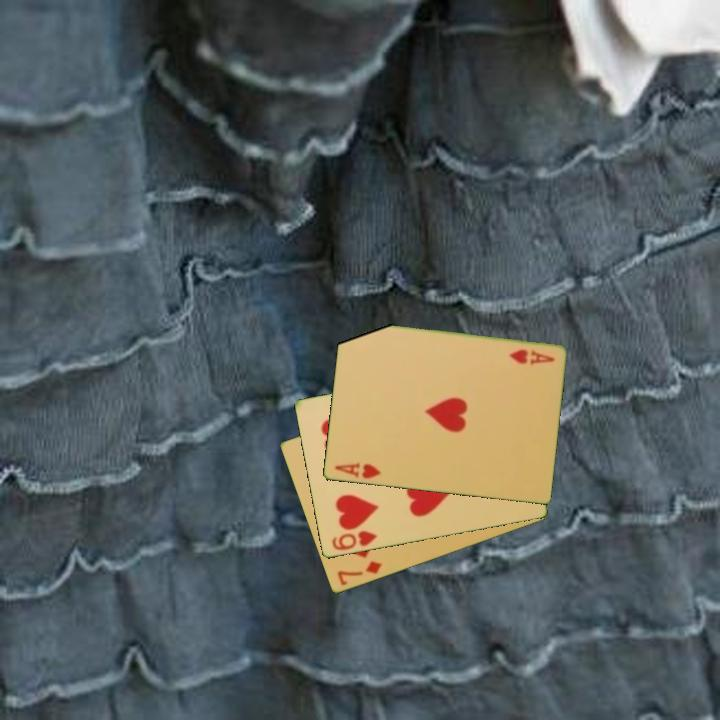6h: (328, 527, 380, 554)
7d: (334, 557, 385, 589)
Ah: (331, 459, 384, 482), (505, 346, 557, 367)
